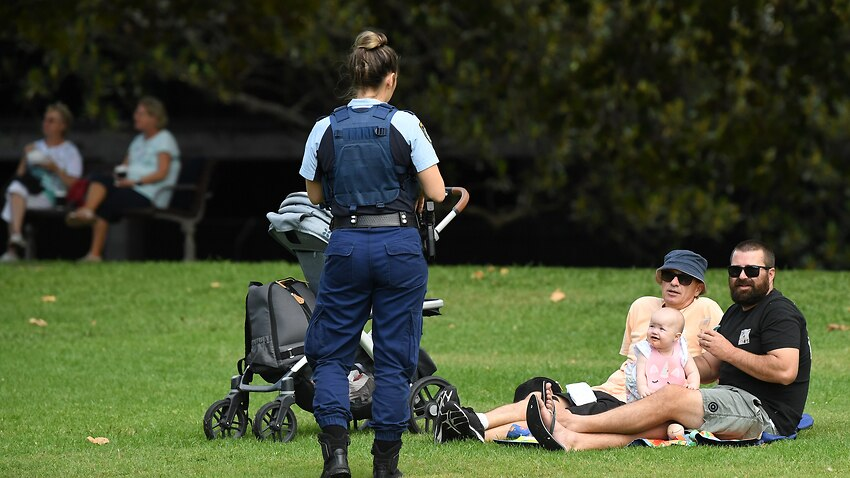Person: (300, 31, 443, 478), (721, 239, 811, 442), (626, 306, 699, 387), (630, 249, 723, 311)
